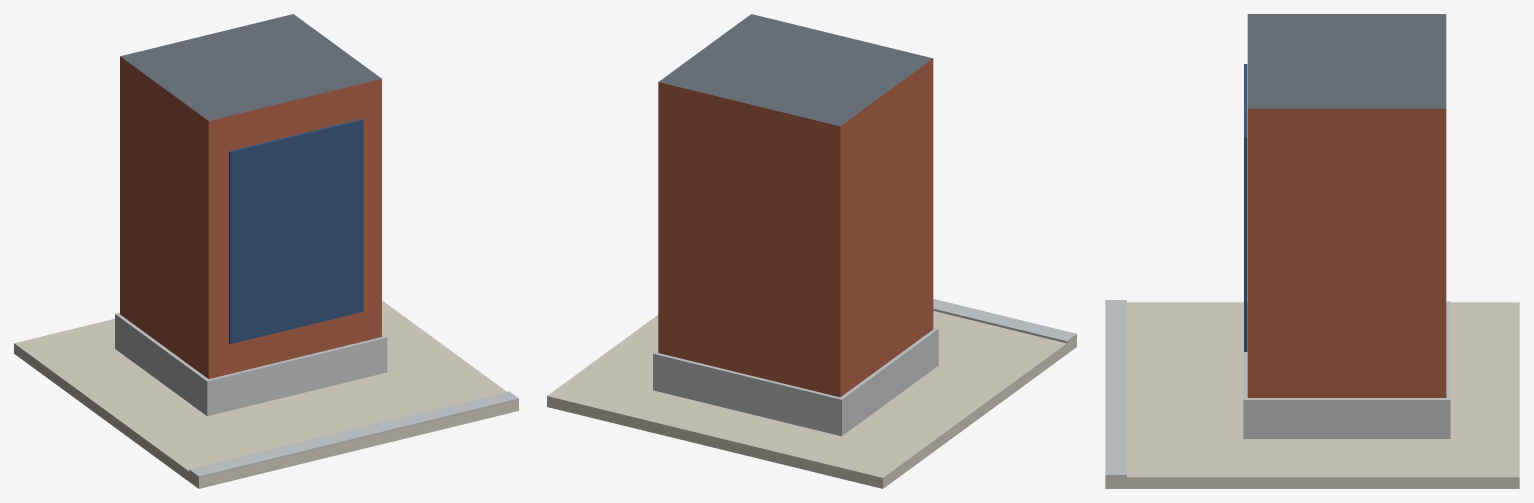
3 views of the same model, side by side, from view 1: azimuth 30°, elevation 25°; view 2: azimuth 150°, elevation 25°; view 3: azimuth 270°, elevation 25° (orthographic). The views are drawn at different scales.
Parts seen in each view (by area): view 1: b05_v2_lod2; view 2: b05_v2_lod2; view 3: b05_v2_lod2.
Part boxes in pixels (bbox=[...]): b05_v2_lod2: bbox=[14, 14, 518, 488]; b05_v2_lod2: bbox=[547, 14, 1076, 488]; b05_v2_lod2: bbox=[1105, 14, 1519, 488].
Bounding box in the file's own units: 0.96 × 0.87 × 0.96.
